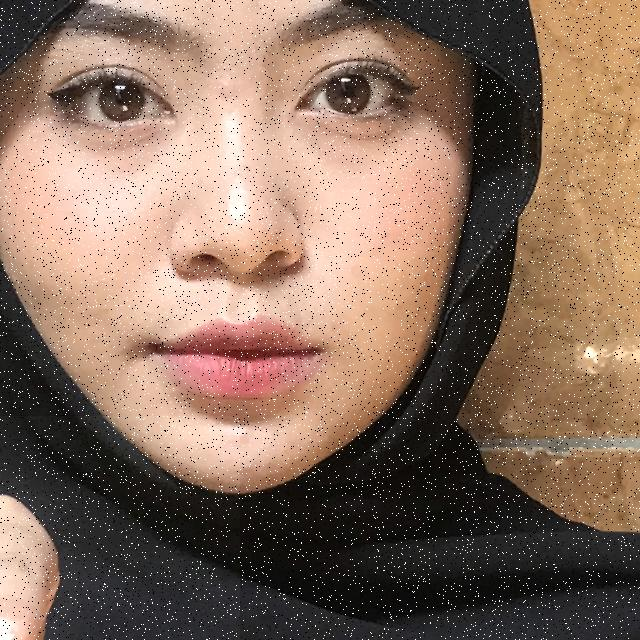kamu: (0, 416, 240, 640)
